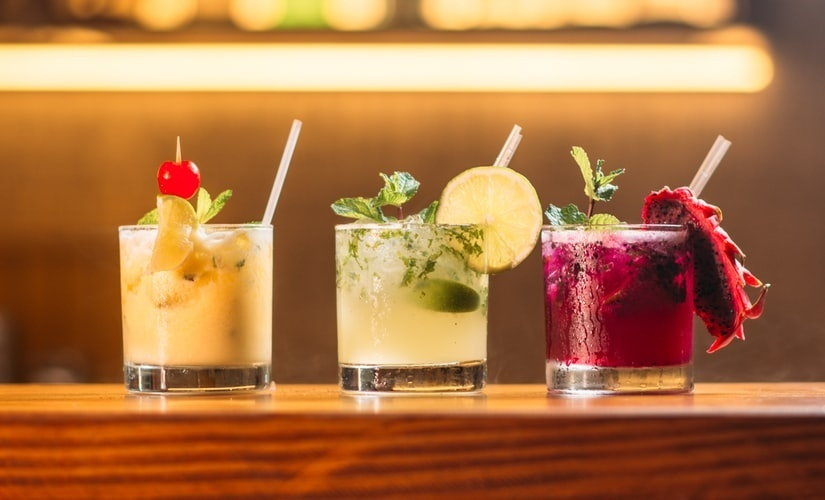whiskey: (333, 211, 485, 389), (548, 211, 700, 389), (121, 213, 273, 391)
